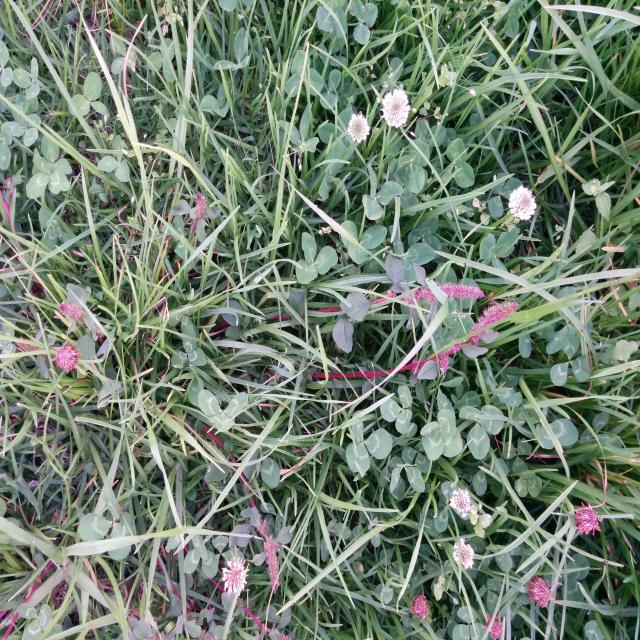Four Leaf Clover: (420, 409, 463, 461)
